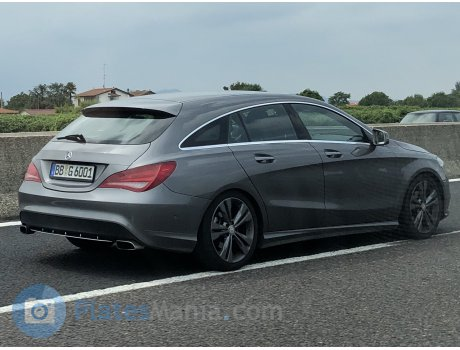License Plates: (52, 161, 95, 181)
